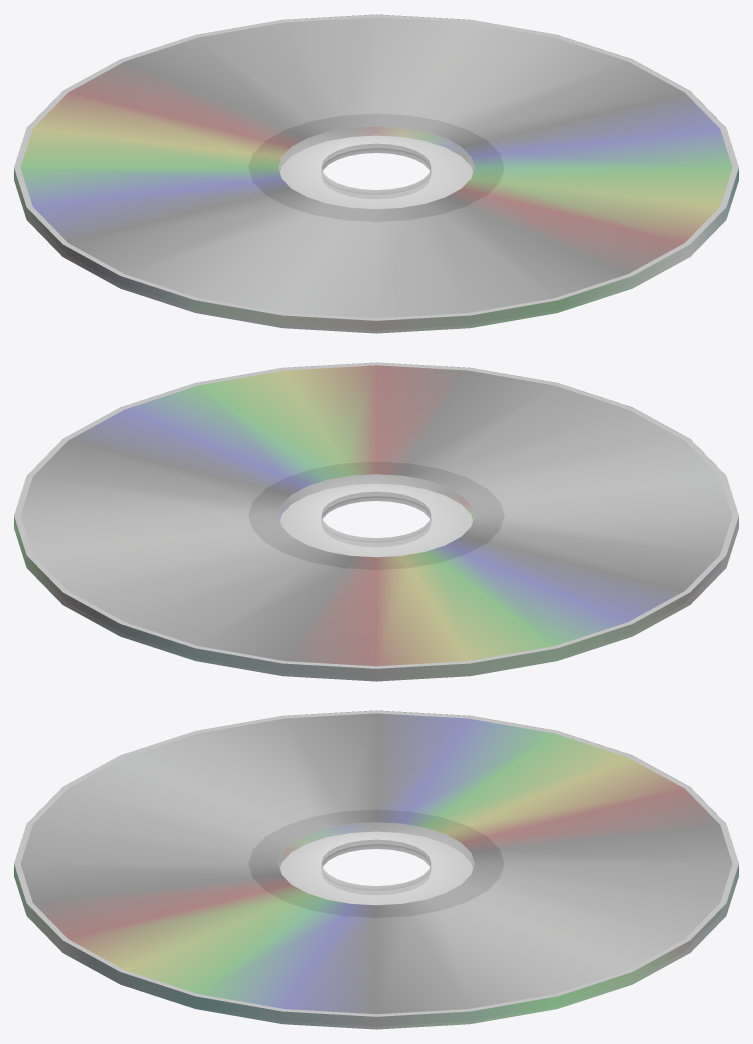
File: human-electronics-compact-disc_v1.glb
3 renders of one model, top to bottom at view 1: azimuth 30°, elevation 25°; view 2: azimuth 150°, elevation 25°; view 3: azimuth 270°, elevation 25°, orthographic.
Visible parts, largest first — view 1: Compact Disc.001, Compact Disc; view 2: Compact Disc.001, Compact Disc; view 3: Compact Disc.001, Compact Disc.
Part boxes in pixels (box(x1,y1,x2,y2)): Compact Disc.001: box(14, 14, 738, 332); Compact Disc: box(14, 14, 738, 333); Compact Disc.001: box(14, 362, 738, 680); Compact Disc: box(14, 362, 738, 681); Compact Disc.001: box(14, 710, 738, 1028); Compact Disc: box(14, 710, 738, 1029).
Size of the model in its own units: 0.12 by 0.00246 by 0.12.
